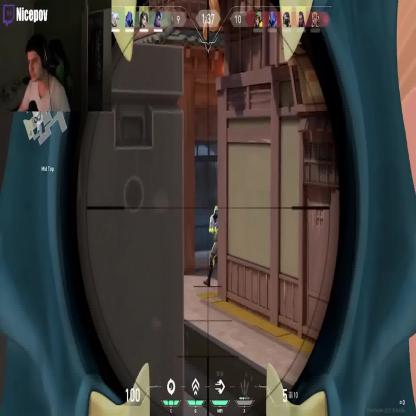enemy: (204, 205, 230, 286)
enemy_head: (214, 205, 219, 218)
